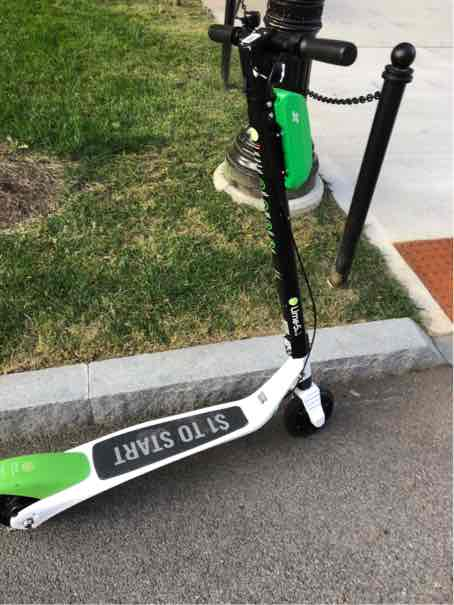scooter: (1, 15, 364, 541)
